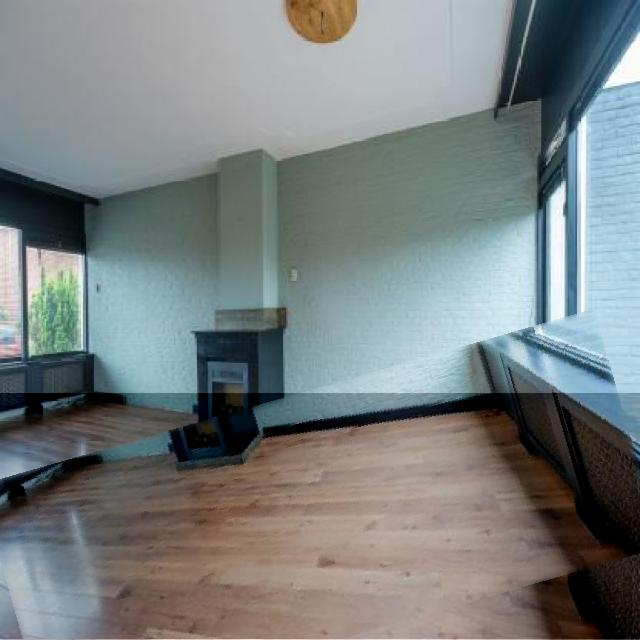floor: (0, 393, 640, 640)
